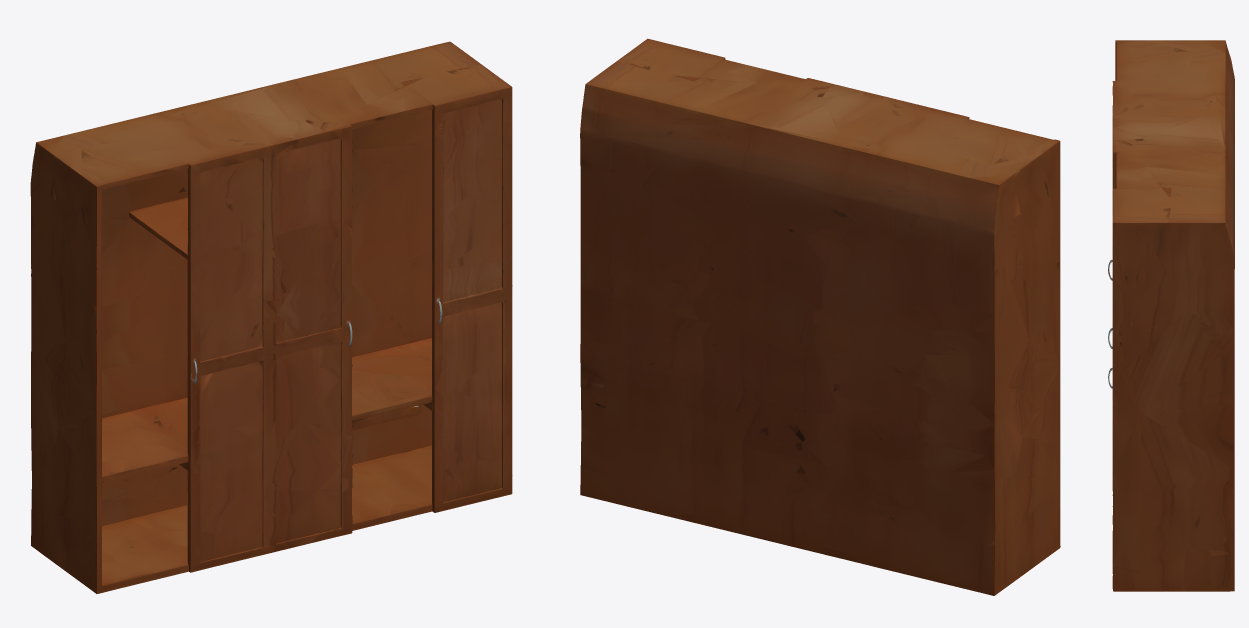
The model's file is rodin.glb.
3 views of the same model, side by side, from view 1: azimuth 30°, elevation 25°; view 2: azimuth 150°, elevation 25°; view 3: azimuth 270°, elevation 25° (orthographic). The views are drawn at different scales.
Visible parts, largest first — view 1: model; view 2: model; view 3: model.
Part boxes in pixels (x1=…): model: x1=30, y1=41, x2=512, y2=593; model: x1=580, y1=38, x2=1060, y2=595; model: x1=1108, y1=40, x2=1234, y2=591.
Size of the model in its own units: 1.1 by 1.02 by 0.293.
Materials: 2 (1 with a texture image).
